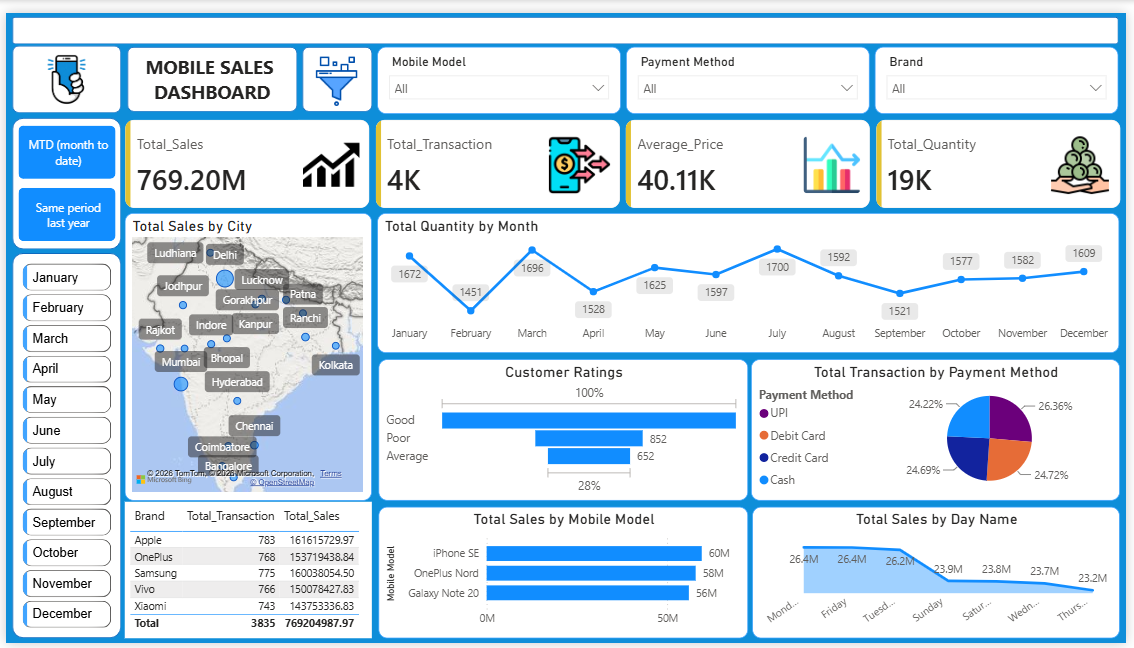

What the dashboard file says about the page in this screenshot:
{"tool":"powerbi","page":{"name":"Dashboard","canvas":[1280,720],"ordinal":0},"visuals":[{"type":"shape","box":[7.1,37.1,124.3,77.1],"z":0},{"type":"image","box":[37.1,41.4,64.3,68.6],"z":1000},{"type":"shape","box":[7.1,120,124.3,150],"z":2000},{"type":"shape","box":[7.1,274.3,124.3,440],"z":3000},{"type":"advancedSlicerVisual","fields":{"Values":["custom_calander.Date.Variation.Date Hierarchy.Month"]},"box":[14.3,281.4,111.4,432.9],"z":4000},{"type":"cardVisual","fields":{"Data":["Sales_data.Total_Sales","Sales_data.Total_Transaction","Sales_data.Average_Price","Sales_data.Total_Quantity"]},"box":[131.4,117.1,1148.6,111.4],"z":5000},{"type":"slicer","fields":{"Values":["Sales_data.Mobile Model"]},"box":[424.3,38.6,278.6,77.1],"z":6000},{"type":"slicer","fields":{"Values":["Sales_data.Payment Method"]},"box":[708.6,38.6,278.6,77.1],"z":7000},{"type":"slicer","fields":{"Values":["Sales_data.Brand"]},"box":[992.9,38.6,278.6,77.1],"z":8000},{"type":"shape","box":[338.6,38.6,80,74.3],"z":9000},{"type":"image","box":[348.6,45.7,58.6,64.3],"z":10000},{"type":"shape","box":[138.6,38.6,194.3,74.3],"z":11000},{"type":"textbox","box":[138.8,41.2,193.8,72.5],"z":12000},{"type":"map","title":"Total Sales by City","fields":{"Category":["Sales_data.City"],"Size":["Sales_data.Total_Sales"]},"box":[135.7,228.6,282.1,328.6],"z":13000},{"type":"lineChart","title":"Total Quantity by Month","fields":{"Category":["custom_calander.Date.Variation.Date Hierarchy.Month"],"Y":["Sales_data.Total_Quantity"]},"box":[424.5,229.1,847.7,160.4],"z":14000},{"type":"funnel","title":"Customer Ratings","fields":{"Category":["Sales_data.Rating_status"],"Y":["CountNonNull(Sales_data.Rating_status)"]},"box":[425,395.2,422.6,161.9],"z":15000},{"type":"pieChart","title":"Total Transaction by Payment Method","fields":{"Category":["Sales_data.Payment Method"],"Y":["Sales_data.Total_Transaction"]},"box":[851.2,395.2,421.4,161.9],"z":16000},{"type":"clusteredBarChart","title":"Total Sales by Mobile Model","fields":{"Y":["Sales_data.Total_Sales"],"Category":["Sales_data.Mobile Model"]},"box":[425,564.3,422.6,150],"z":17000},{"type":"areaChart","title":"Total Sales by Day Name","fields":{"Category":["custom_calander.Day Name"],"Y":["Sales_data.Total_Sales"]},"box":[852.4,564.3,420.2,150],"z":18000},{"type":"shape","box":[7.1,4.3,1264.3,31.4],"z":19000},{"type":"tableEx","fields":{"Values":["Sales_data.Brand","Sales_data.Total_Transaction","Sales_data.Total_Sales"]},"box":[136,558,282,156],"z":20000},{"type":"pageNavigator","box":[14.3,128.6,111.4,132.9],"z":21000}]}

Visuals, with their boxes in screenshot pixels (x1, y1, x2, y2), scaled from the page's 1280x720 canvas onto the 1134x648 screenshot:
shape: 6/33/116/103
image: 33/37/90/99
shape: 6/108/116/243
shape: 6/247/116/643
advancedSlicerVisual - custom_calander.Date.Variation.Date Hierarchy.Month: 13/253/111/643
cardVisual - Sales_data.Total_Sales x Sales_data.Total_Transaction: 116/105/1133/206
slicer - Sales_data.Mobile Model: 376/35/623/104
slicer - Sales_data.Payment Method: 628/35/875/104
slicer - Sales_data.Brand: 880/35/1126/104
shape: 300/35/371/102
image: 309/41/361/99
shape: 123/35/295/102
textbox: 123/37/295/102
"Total Sales by City" map: 120/206/370/501
"Total Quantity by Month" lineChart: 376/206/1127/351
"Customer Ratings" funnel: 377/356/751/501
"Total Transaction by Payment Method" pieChart: 754/356/1127/501
"Total Sales by Mobile Model" clusteredBarChart: 377/508/751/643
"Total Sales by Day Name" areaChart: 755/508/1127/643
shape: 6/4/1126/32
tableEx - Sales_data.Brand x Sales_data.Total_Transaction: 120/502/370/643
pageNavigator: 13/116/111/235
